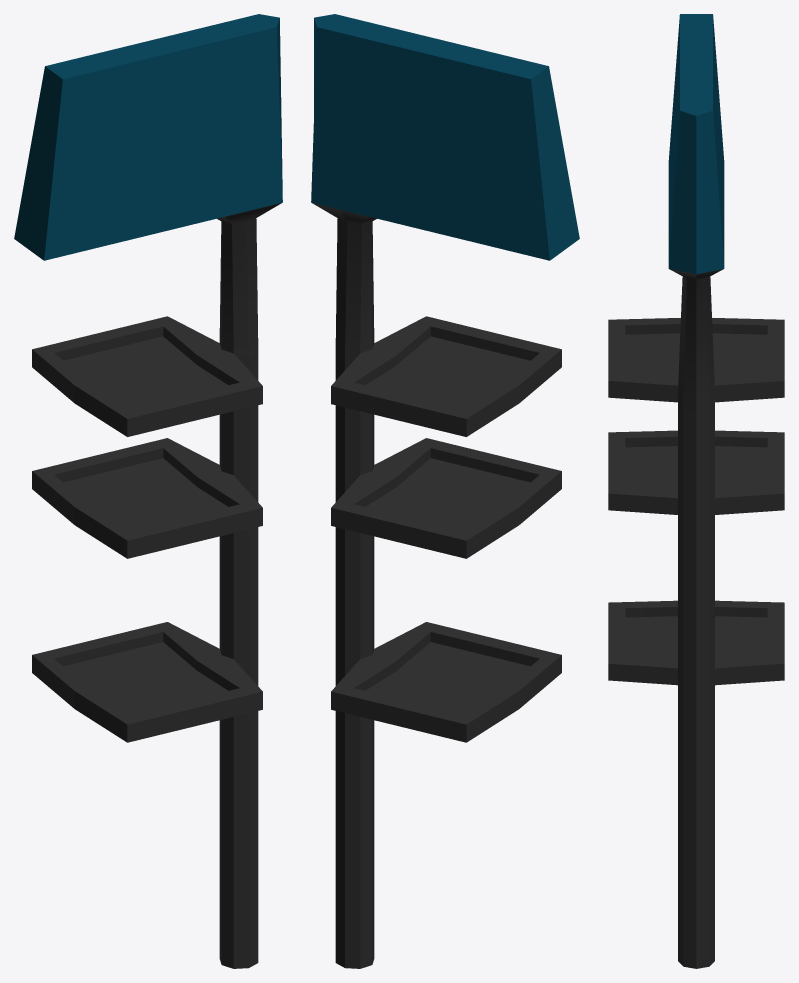
The model's file is CounterNumber.fbx.
3 renders of one model, left to right at view 1: azimuth 30°, elevation 25°; view 2: azimuth 150°, elevation 25°; view 3: azimuth 270°, elevation 25°, orthographic. The views are drawn at different scales.
Visible parts, largest first — view 1: CounterNumber; view 2: CounterNumber; view 3: CounterNumber.
Boxes of the visible parts, left/top/right/bottom form: CounterNumber: left=14, top=14, right=282, bottom=968; CounterNumber: left=311, top=14, right=579, bottom=968; CounterNumber: left=608, top=14, right=784, bottom=968.
Size of the model in its own units: 61.23 by 218 by 40.31.
